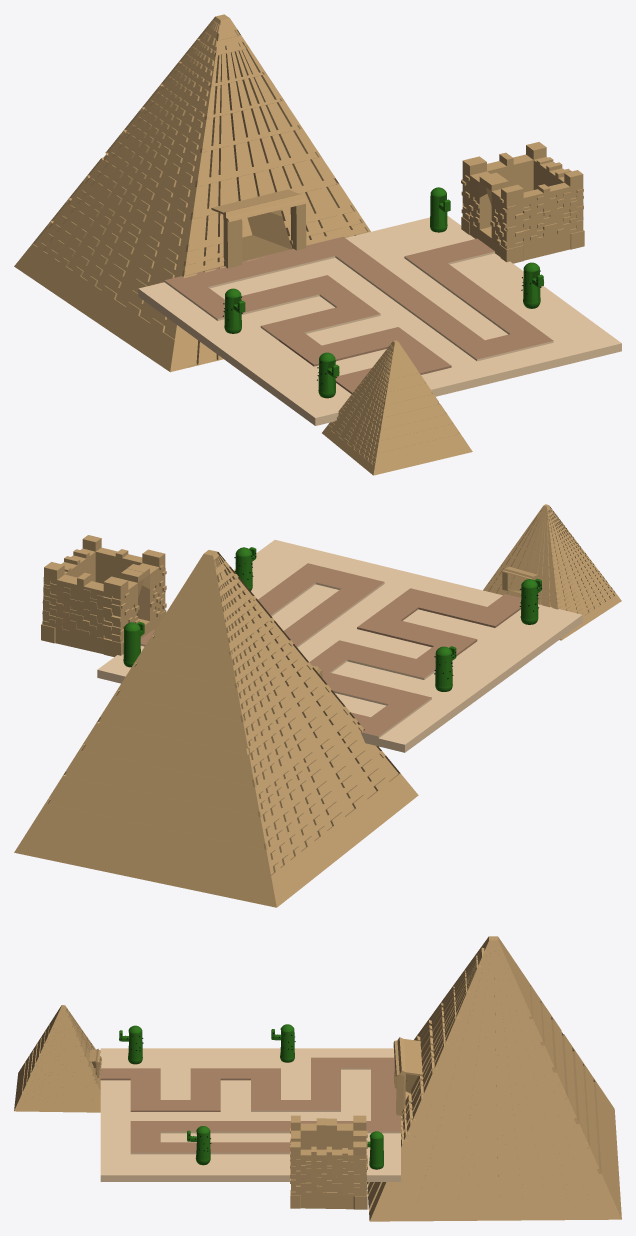
Rendered from mapa_starověk.fbx.
3 renders of one model, top to bottom at view 1: azimuth 30°, elevation 25°; view 2: azimuth 150°, elevation 25°; view 3: azimuth 270°, elevation 25°, orthographic. The views are drawn at different scales.
Parts seen in each view (by area): view 1: Cube.001, Cube, Cube.002, Cube.003, Sphere.002, Sphere, Sphere.001, Sphere.003; view 2: Cube.001, Cube, Cube.002, Cube.003, Sphere.001, Sphere, Sphere.003, Sphere.002; view 3: Cube.001, Cube, Cube.002, Cube.003, Sphere.002, Sphere, Sphere.001, Sphere.003.
Part boxes in pixels (x1,y1,x2,y2): Cube.001: [14, 14, 370, 372]; Cube: [138, 216, 621, 425]; Cube.002: [461, 142, 584, 263]; Cube.003: [322, 340, 472, 475]; Sphere.002: [523, 262, 543, 308]; Sphere: [318, 352, 339, 398]; Sphere.001: [224, 288, 245, 333]; Sphere.003: [430, 187, 450, 232]; Cube.001: [14, 550, 418, 907]; Cube: [97, 540, 582, 752]; Cube.002: [41, 535, 166, 656]; Cube.003: [483, 504, 621, 640]; Sphere.001: [435, 646, 456, 691]; Sphere: [520, 578, 541, 624]; Sphere.003: [123, 622, 144, 667]; Sphere.002: [235, 547, 256, 590]; Cube.001: [367, 936, 621, 1221]; Cube: [100, 1048, 400, 1181]; Cube.002: [290, 1115, 367, 1209]; Cube.003: [14, 1005, 101, 1112]; Sphere.002: [187, 1126, 210, 1165]; Sphere: [119, 1025, 142, 1064]; Sphere.001: [271, 1024, 294, 1062]; Sphere.003: [367, 1131, 383, 1169].
Size of the model in its own units: 4988 by 3403 by 8098.
